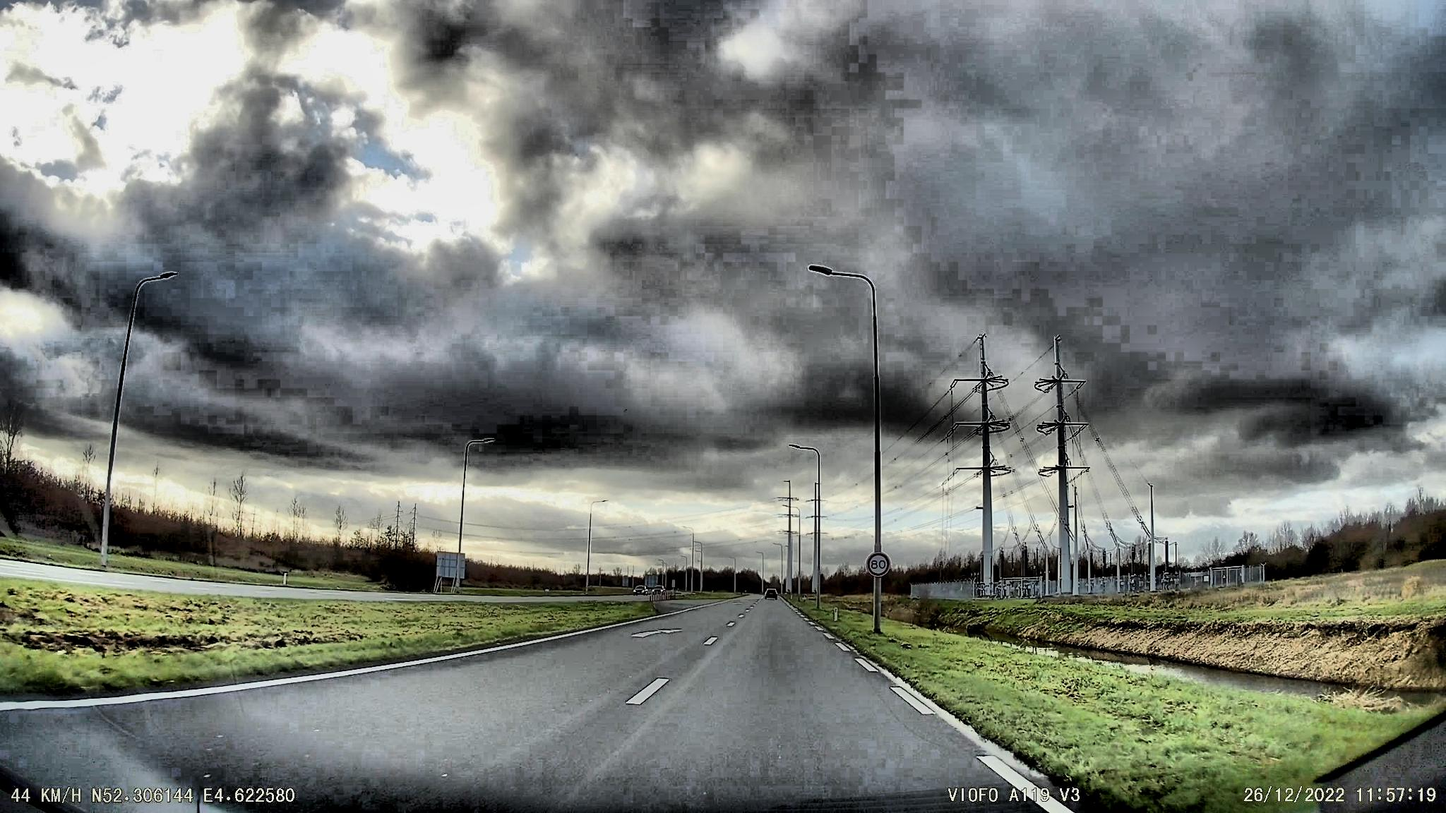Roads: (0, 599, 1100, 813)
